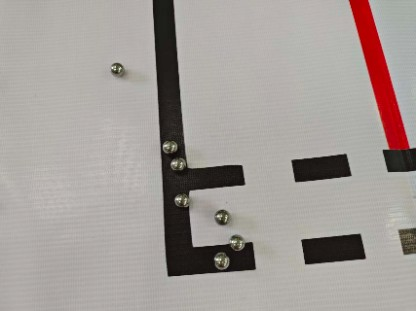ironball: (213, 252, 228, 267), (229, 234, 243, 249), (170, 156, 184, 170), (214, 210, 227, 224), (161, 140, 176, 151), (174, 193, 187, 205), (109, 62, 122, 74)
